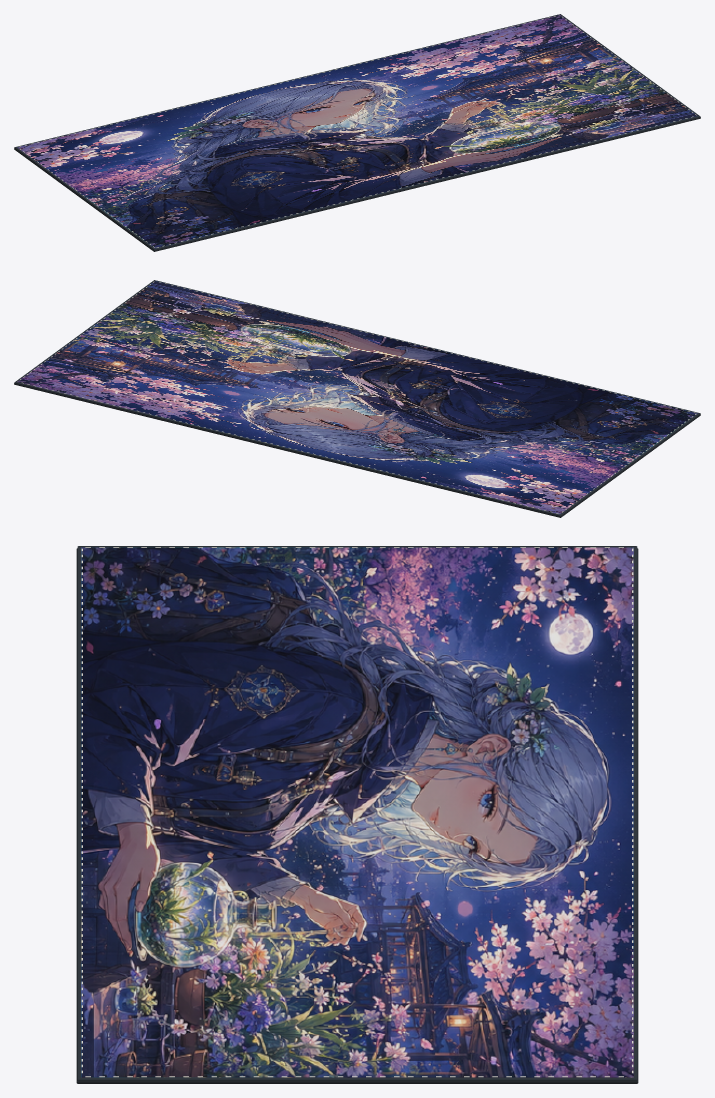
File: desk-mat-anime-garden.glb
3 renders of one model, top to bottom at view 1: azimuth 30°, elevation 25°; view 2: azimuth 150°, elevation 25°; view 3: azimuth 270°, elevation 25°, orthographic. The views are drawn at different scales.
Visible parts, largest first — view 1: desk-mat-anime-garden authored assembly; view 2: desk-mat-anime-garden authored assembly; view 3: desk-mat-anime-garden authored assembly.
Boxes of the visible parts, x1=… form: desk-mat-anime-garden authored assembly: x1=14, y1=14, x2=700, y2=251; desk-mat-anime-garden authored assembly: x1=14, y1=280, x2=700, y2=517; desk-mat-anime-garden authored assembly: x1=76, y1=546, x2=638, y2=1083.
Size of the model in its own units: 0.9 by 0.004 by 0.4.
Materials: 4 (1 with a texture image).
